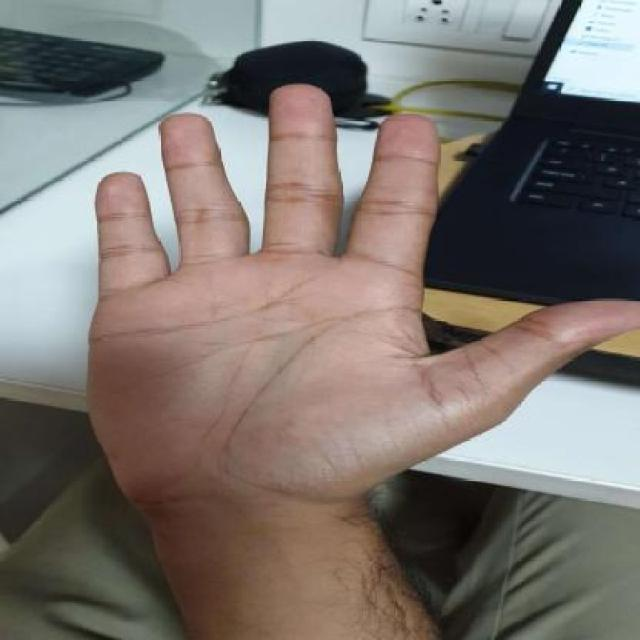no-gloves: (67, 76, 640, 575)
